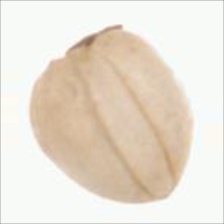L5: (72, 46, 173, 194), (42, 29, 120, 68), (146, 165, 189, 206)
L6: (26, 24, 196, 208)
